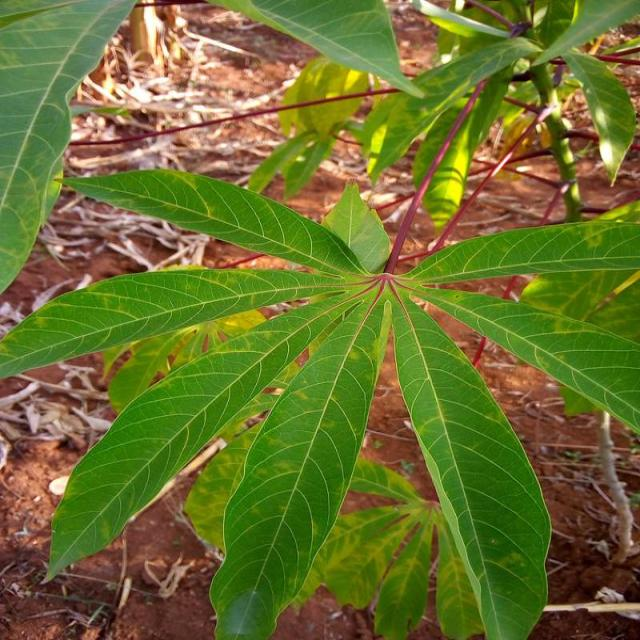cassava leaf: (0, 1, 638, 637), (207, 286, 391, 638), (386, 278, 552, 638), (0, 0, 136, 294)
